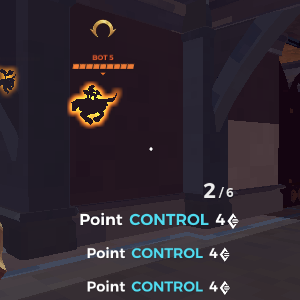model: (76, 83, 108, 130), (1, 67, 20, 97)
